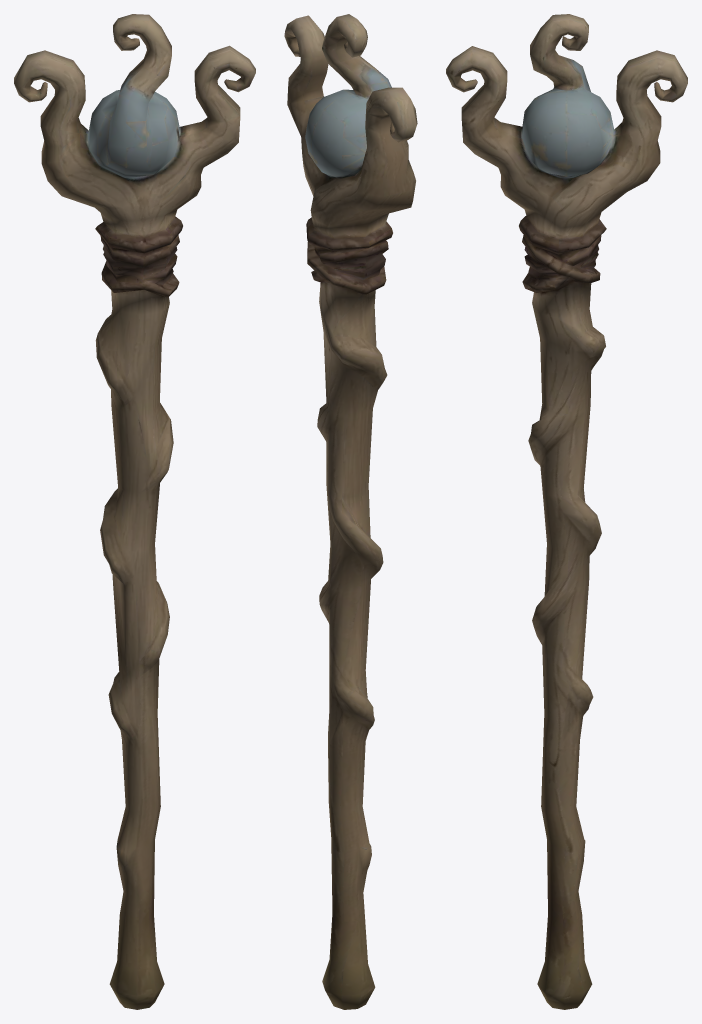
File: staff_field_iron.glb
The picture shows the model from 3 angles, left to right: view 1: azimuth 90°, elevation 25°; view 2: azimuth 210°, elevation 25°; view 3: azimuth 270°, elevation 25°; orthographic projection.
Visible parts, largest first — view 1: tripo_node_afd9772d-4086-4c74-928c-1d204a02736e; view 2: tripo_node_afd9772d-4086-4c74-928c-1d204a02736e; view 3: tripo_node_afd9772d-4086-4c74-928c-1d204a02736e.
Part boxes in pixels (<box>): tripo_node_afd9772d-4086-4c74-928c-1d204a02736e: <box>14,14,255,1009</box>; tripo_node_afd9772d-4086-4c74-928c-1d204a02736e: <box>284,14,417,1009</box>; tripo_node_afd9772d-4086-4c74-928c-1d204a02736e: <box>446,14,687,1009</box>.
Bounding box in the file's own units: 0.2037 × 2.28 × 0.5046.
Materials: 1 (1 with a texture image).
